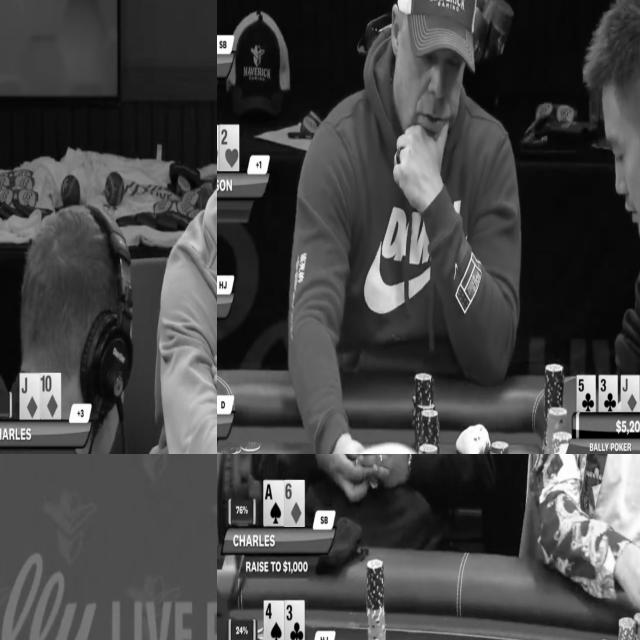10D: (40, 374, 61, 418)
2H: (219, 124, 239, 172)
3C: (284, 600, 304, 640), (598, 374, 618, 412)
4S: (264, 601, 284, 640)
5C: (576, 375, 596, 412)
6D: (284, 480, 305, 527)
AS: (264, 481, 284, 525)
JD: (19, 372, 40, 420), (621, 374, 640, 412)
